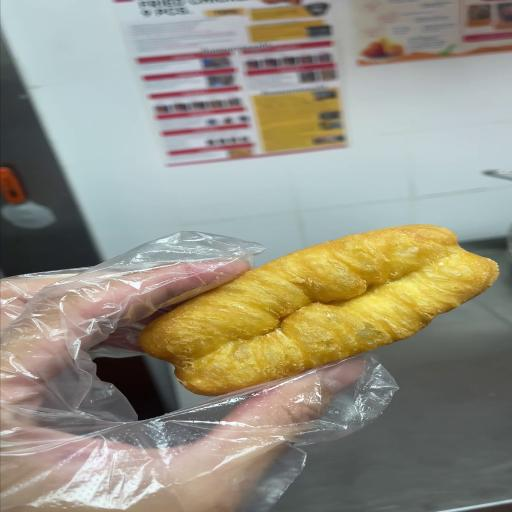brand_golden_good: (139, 225, 498, 395)
